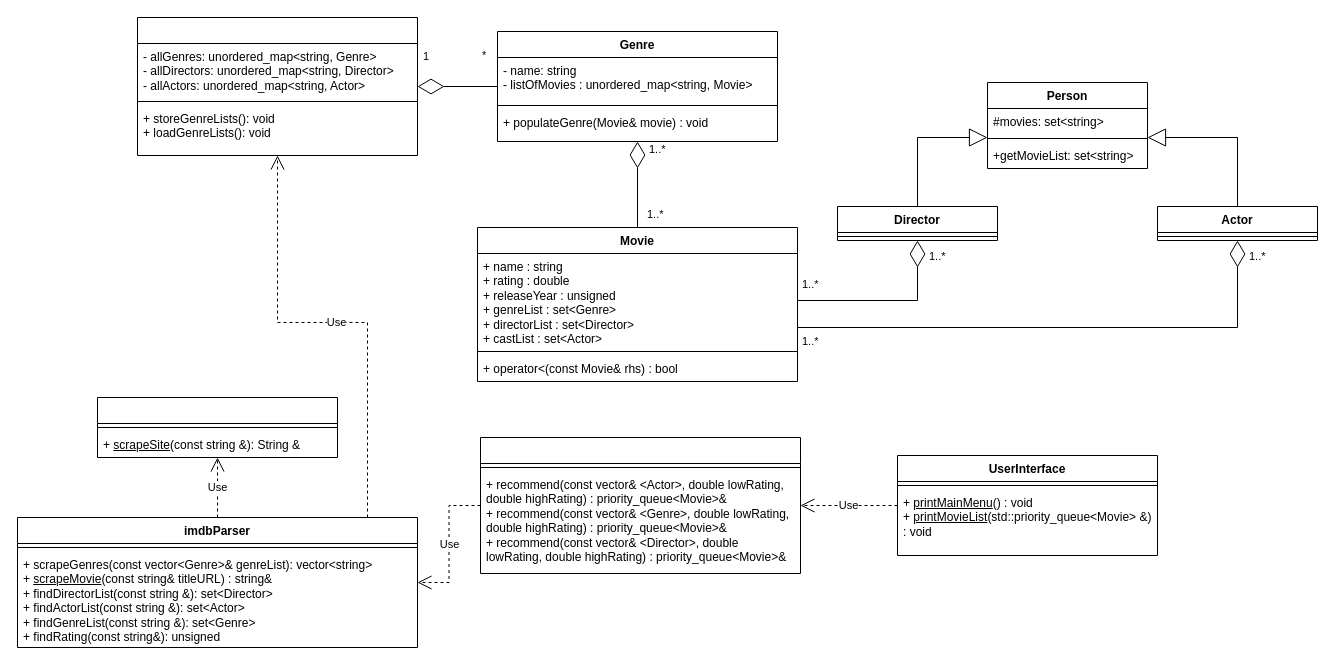
Image size: 1335x668. Some labels were removed from this diagram. The shapes that lost their labels are listed below. From the top down, each one's box as (x1, y1, x2, y2) in pixels, then its label:
(136, 16, 418, 156): moviesDatabase
(96, 396, 338, 458): scrapeWebsite
(480, 436, 800, 574): MovieRecommender
